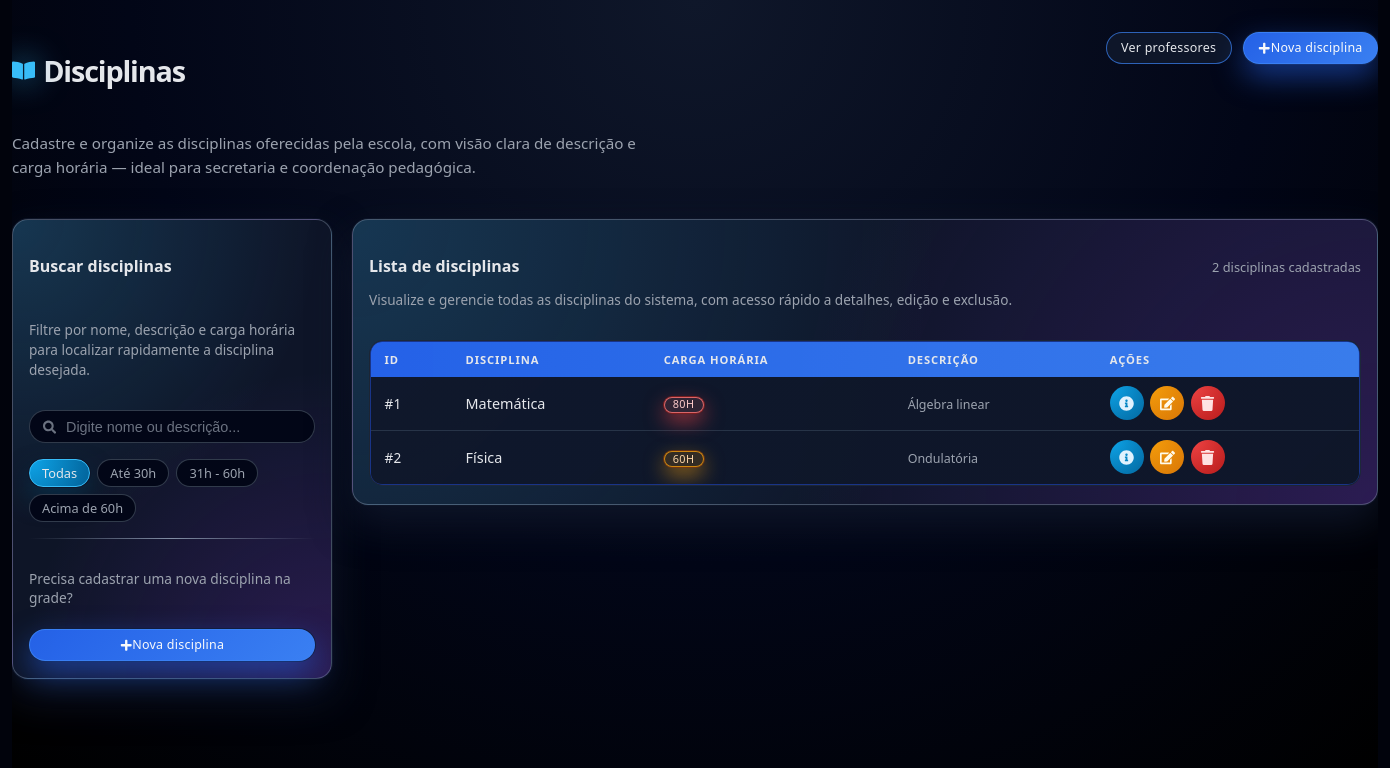
Test: SubjectsPage (dashboard) › filtra disciplinas pelo texto digitado (nome ou descrição)
// Filtro por nome
Type "matemática" into the field with placeholder "Digite nome ou descrição...". click: (183, 427)
box: x1=64 y1=418 x2=301 y2=436
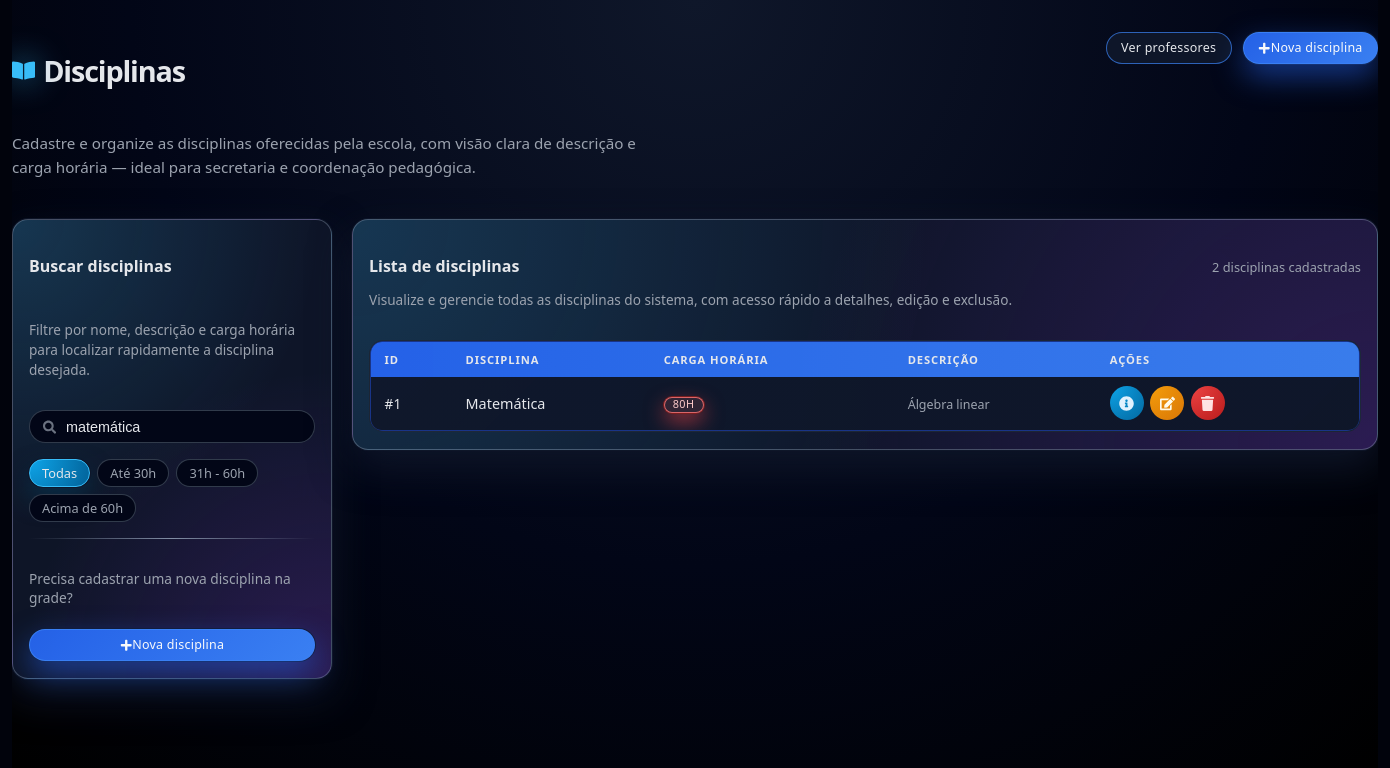
expect the text "Matemática" is shown: met, box x1=466 y1=394 x2=546 y2=413
expect the text "Física" is gone: met
// Filtro por descrição
Replace the text in the field with placeholder "Digite nome ou descrição..." with "ondulatória". click: (183, 427)
box: x1=64 y1=418 x2=301 y2=436
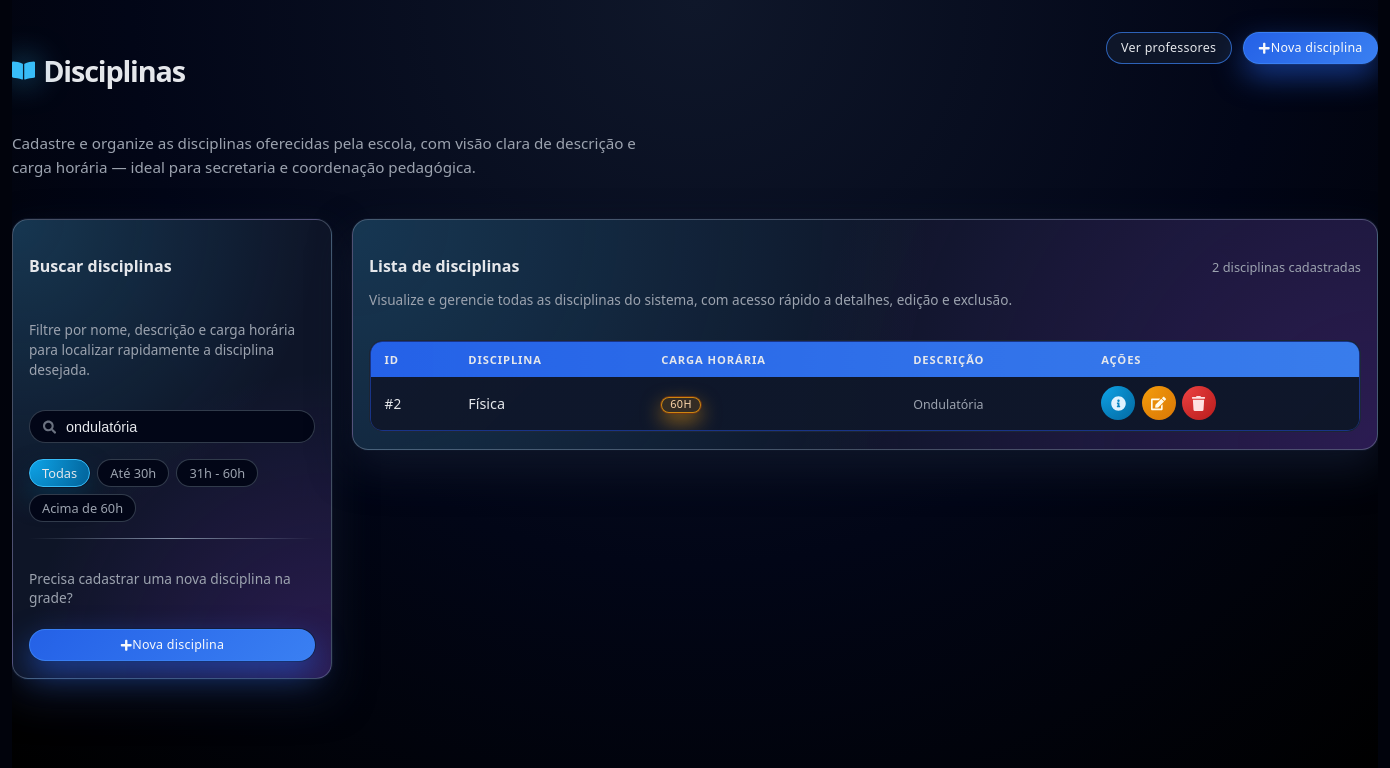
expect the text "Física" is shown: met, box x1=468 y1=394 x2=505 y2=413
expect the text "Matemática" is gone: met
